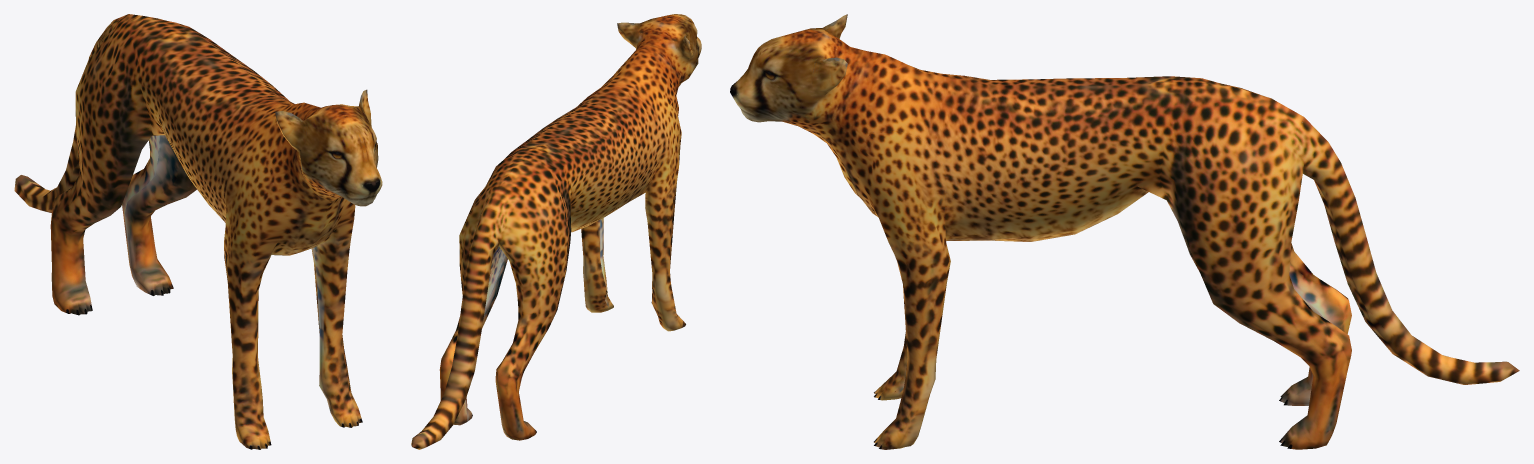
The model's file is leopardo.fbx.
The picture shows the model from 3 angles, left to right: view 1: azimuth 30°, elevation 25°; view 2: azimuth 150°, elevation 25°; view 3: azimuth 270°, elevation 25°; orthographic projection. The views are drawn at different scales.
Visible parts, largest first — view 1: Low; view 2: Low; view 3: Low.
Boxes of the visible parts, <box> form: Low: <box>14,14,382,449</box>; Low: <box>411,14,701,449</box>; Low: <box>730,14,1519,449</box>.
Size of the model in its own units: 0.4817 by 1.39 by 2.54.
